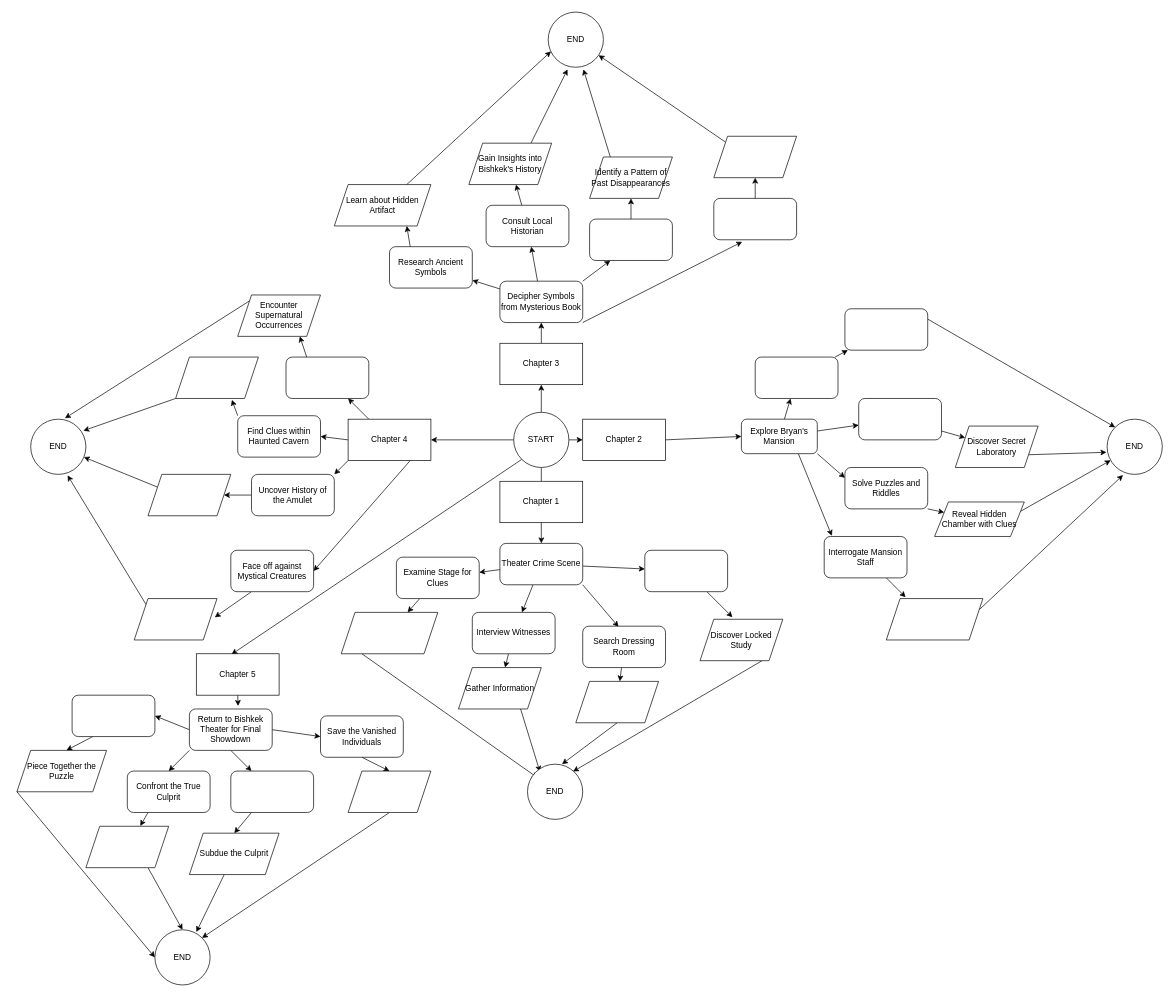
This 1174x997 diagram has some shape labels left out. The centre of each missing label's shape, as x and y in pixels:
"Break the Curse" belongs at point 389,791.
"Combine Clues to Form a Pattern" belongs at point 630,239.
"Discover Mysterious Symbols" belongs at point 216,377.
"Engage in High-stakes Confrontation" belongs at point 272,791.
"Find Hidden Trapdoor" belongs at point 389,633.
"Find Mysterious Book with Symbols" belongs at point 886,329.
"Find Suspicious Letter" belongs at point 617,702.
"Gather all Evidence" belongs at point 113,715.
"Investigate Study" belongs at point 796,377.
"Learn about Cursed Amulet" belongs at point 755,157.
"Learn about Dark Origins" belongs at point 189,495.
"Navigate through Forest" belongs at point 327,377.
"Overcome Guardian Obstacle" belongs at point 175,619.
"Pursue Leads related to the Artifact" belongs at point 755,219.
"Reveal the Mastermind" belongs at point 127,847.
"Uncover Hidden Rooms" belongs at point 900,419.
"Unearth Conflicting Statements" belongs at point 934,619.
"Visit Bryan's Mansion" belongs at point 686,571.
